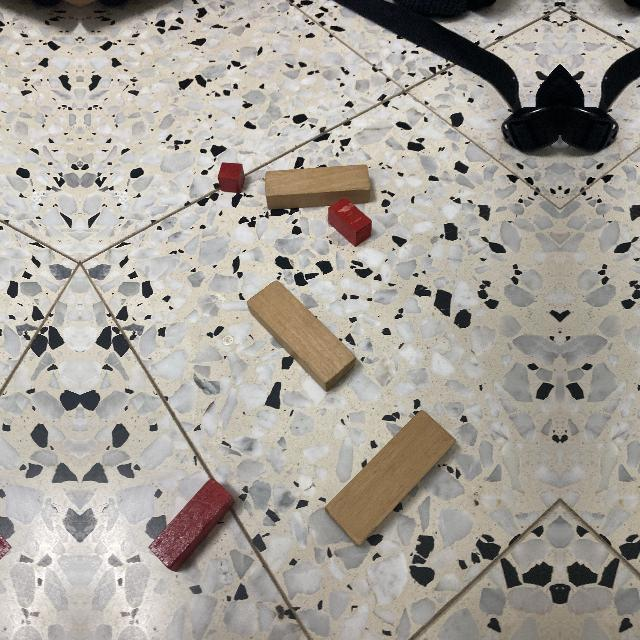jenga: (324, 410, 457, 547), (247, 281, 356, 392), (265, 165, 371, 210)
red block: (149, 480, 234, 573), (328, 198, 371, 247)
red cube: (218, 163, 245, 193)
